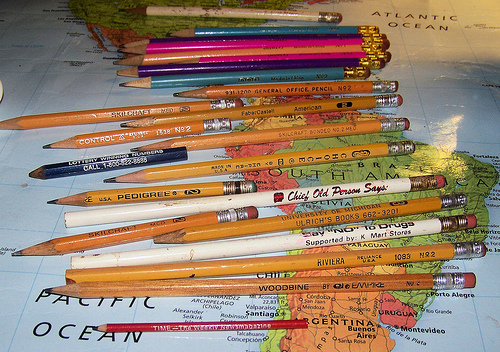pen_tip: (5, 237, 69, 265), (38, 133, 86, 165)
